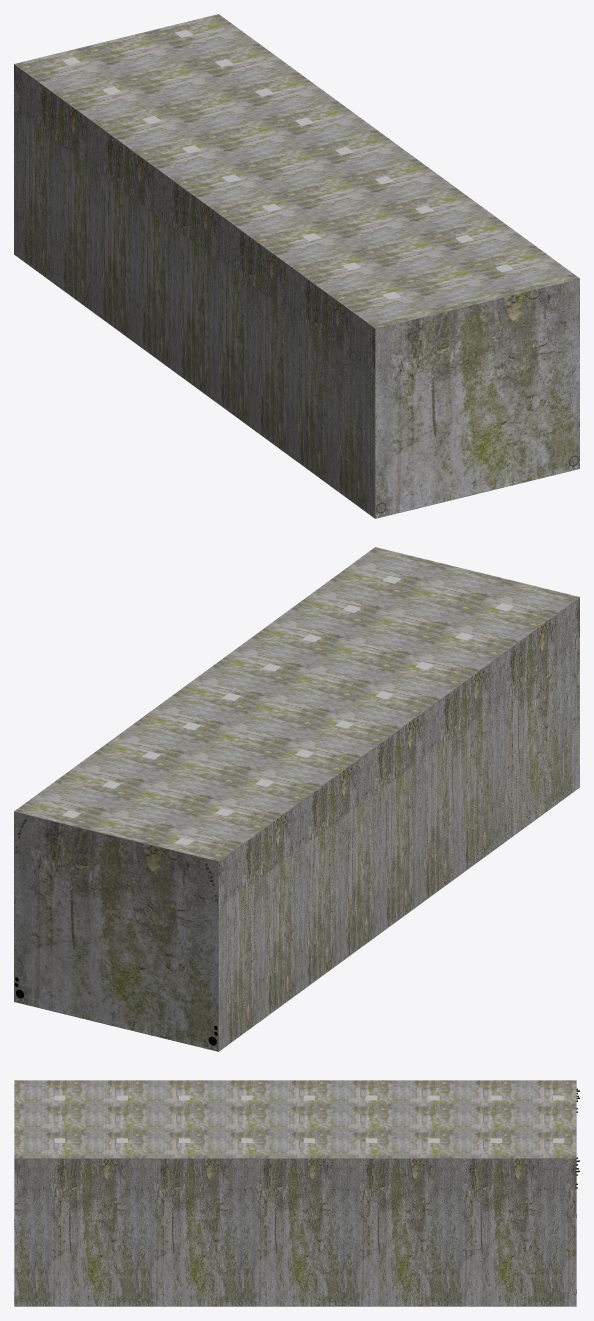
File: map.gltf
3 views of the same model, one above another, from view 1: azimuth 30°, elevation 25°; view 2: azimuth 150°, elevation 25°; view 3: azimuth 270°, elevation 25° (orthographic). The views are drawn at different scales.
Parts seen in each view (by area): view 1: Object019, Box001, Line002; view 2: Box001, Object019, Line002; view 3: Box001, Object019.
Boxes of the visible parts, x1=… form: Object019: x1=14, y1=14, x2=579, y2=328; Box001: x1=14, y1=64, x2=579, y2=518; Line002: x1=14, y1=61, x2=388, y2=518; Box001: x1=14, y1=597, x2=579, y2=1051; Object019: x1=14, y1=547, x2=579, y2=861; Line002: x1=205, y1=652, x2=579, y2=1051; Box001: x1=14, y1=1158, x2=576, y2=1306; Object019: x1=14, y1=1080, x2=576, y2=1158.
Size of the model in its own units: 18 by 16.03 by 55.34.
